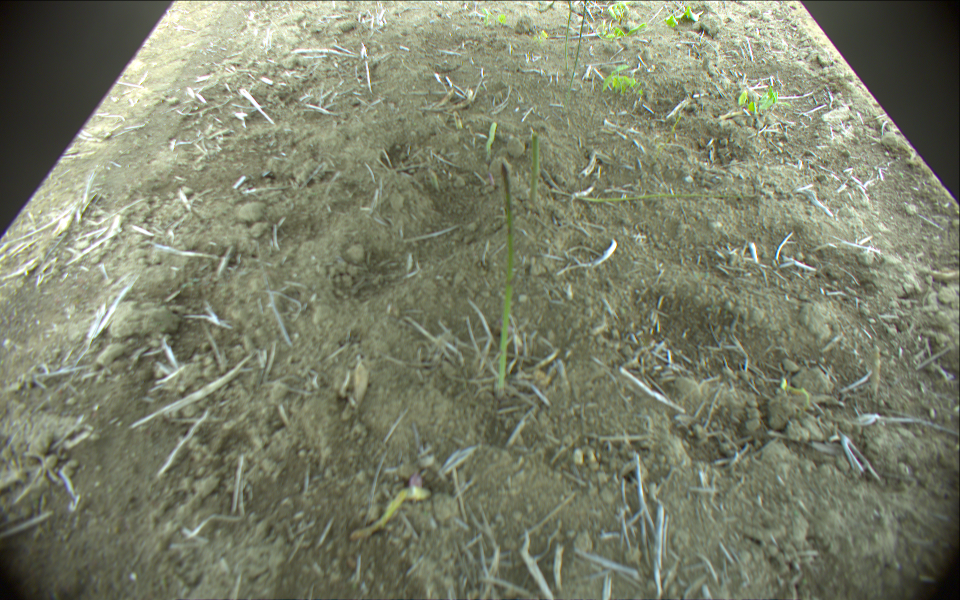aspa: (348, 485, 427, 542), (496, 163, 515, 392), (555, 186, 755, 205), (570, 1, 588, 97), (525, 134, 542, 201), (565, 1, 574, 69), (484, 119, 499, 155)
